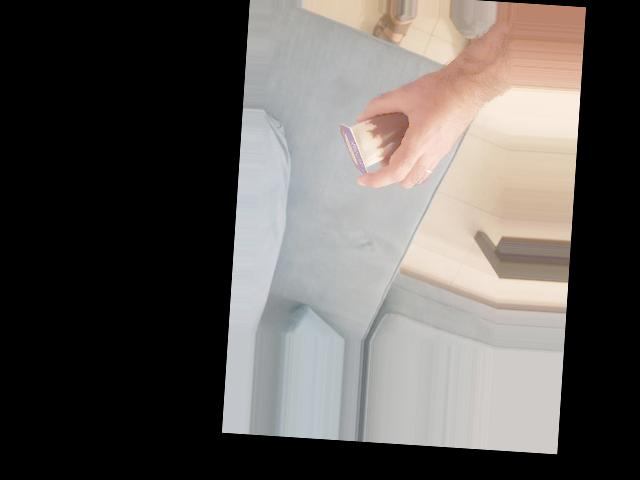milky: (266, 179, 338, 254)
